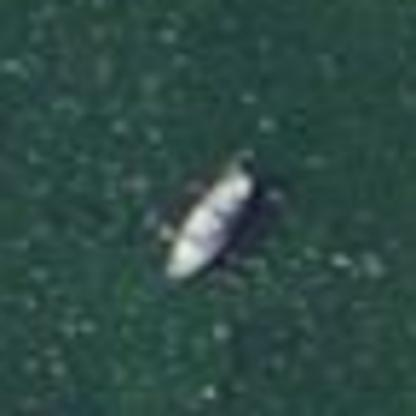ship: (143, 141, 287, 290)
